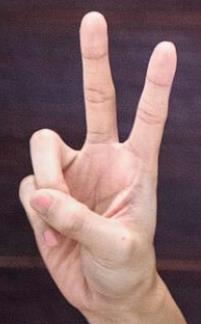front: (16, 9, 181, 311)
